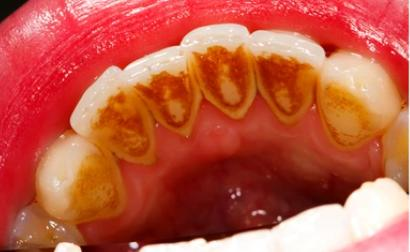Plaque: (86, 89, 151, 165), (190, 42, 252, 120), (137, 66, 196, 138), (254, 51, 312, 121), (67, 153, 126, 219), (319, 78, 373, 149)
